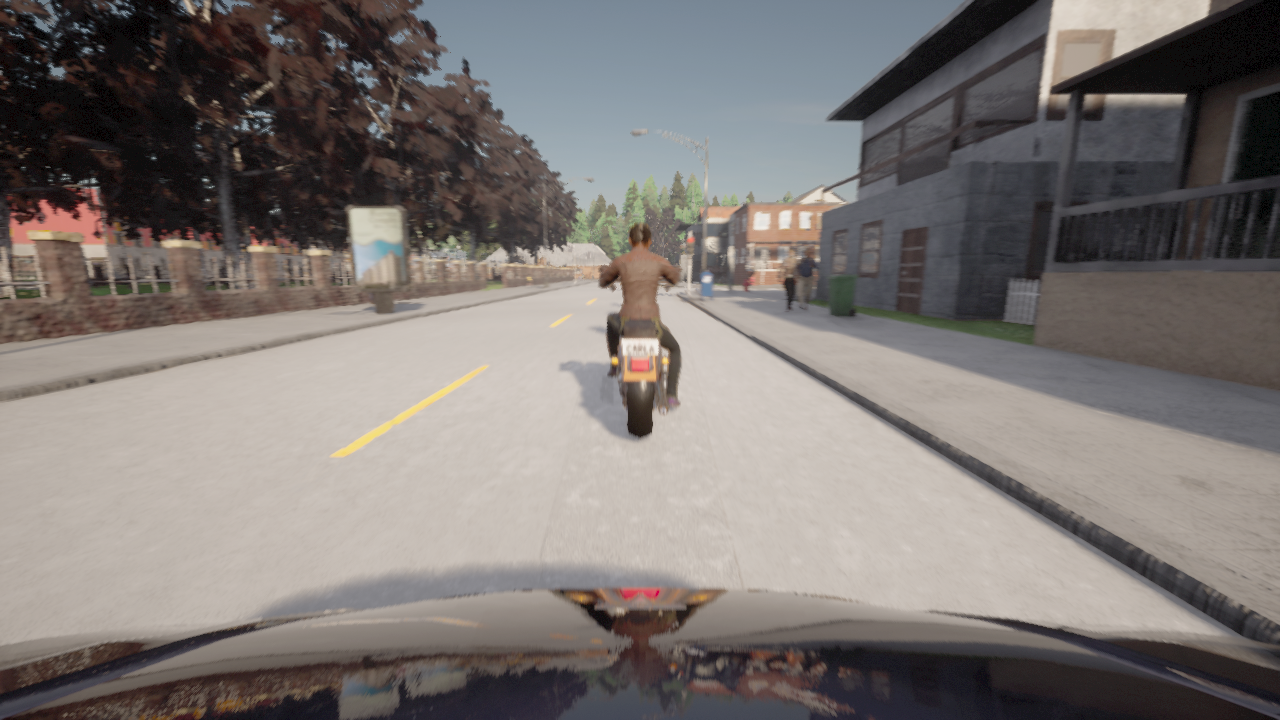cyclist: (0, 588, 1279, 719), (598, 266, 680, 439), (576, 274, 587, 279)
pedestrian: (795, 248, 818, 310), (778, 249, 798, 312), (368, 292, 374, 304), (527, 274, 530, 288)
